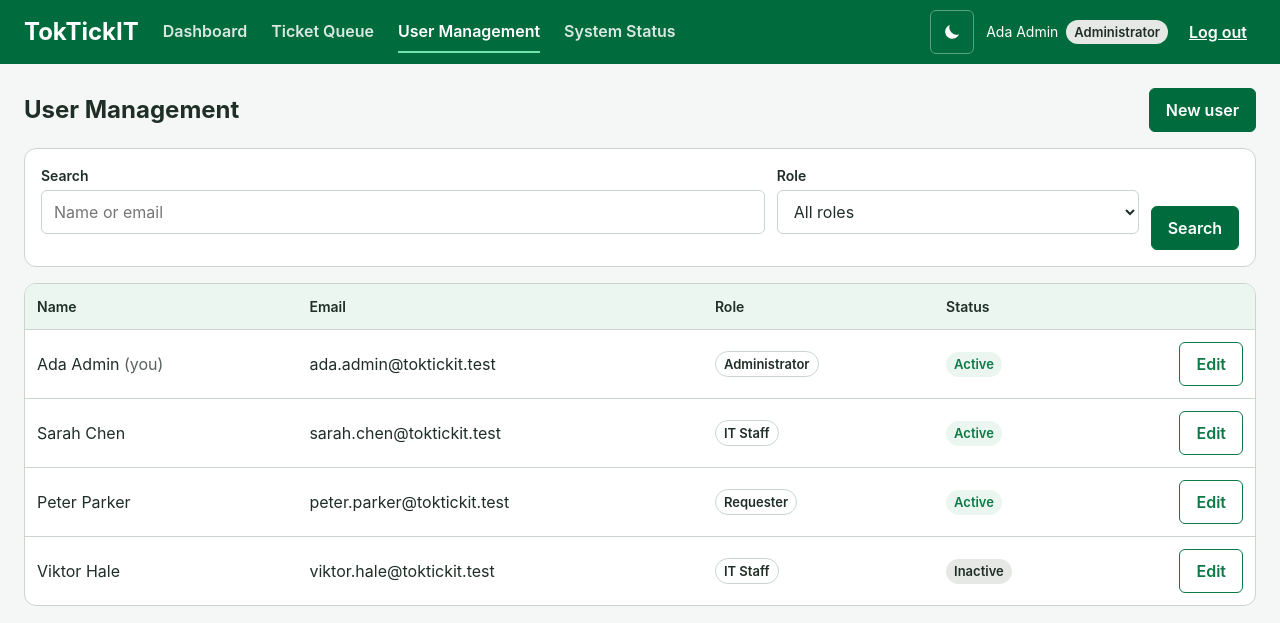
UI-18 the user list (AC-35, AC-36) › tells an empty system from a search that matched nobody
The width and height of the screenshot is (1280, 623).
Expected: the heading "User Management" is shown, [24,96,239,124]
Type "nobody" into the search field labelled "Search" at (403, 212), box [41,190,765,234]
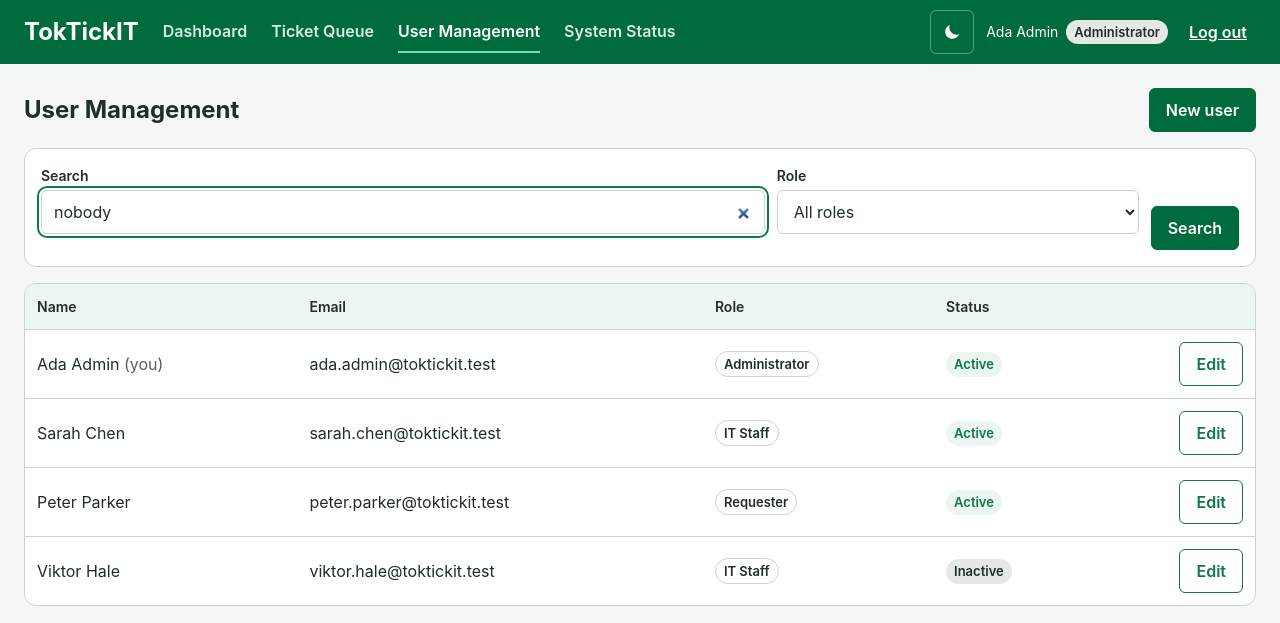
Click the button "Search" at (1195, 228), box [1151,206,1239,250]
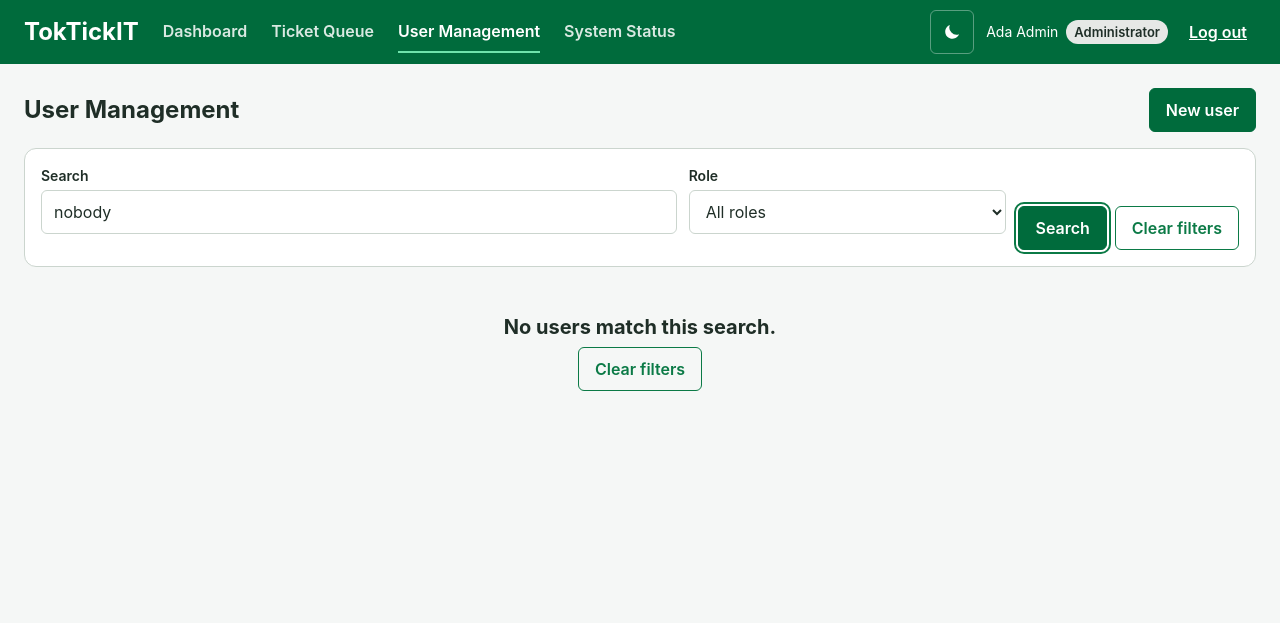
Expected: the heading "No users match this search." is shown, [504,315,776,339]
Click the 1st button "Clear filters" at (1177, 228), box [1115,206,1239,250]
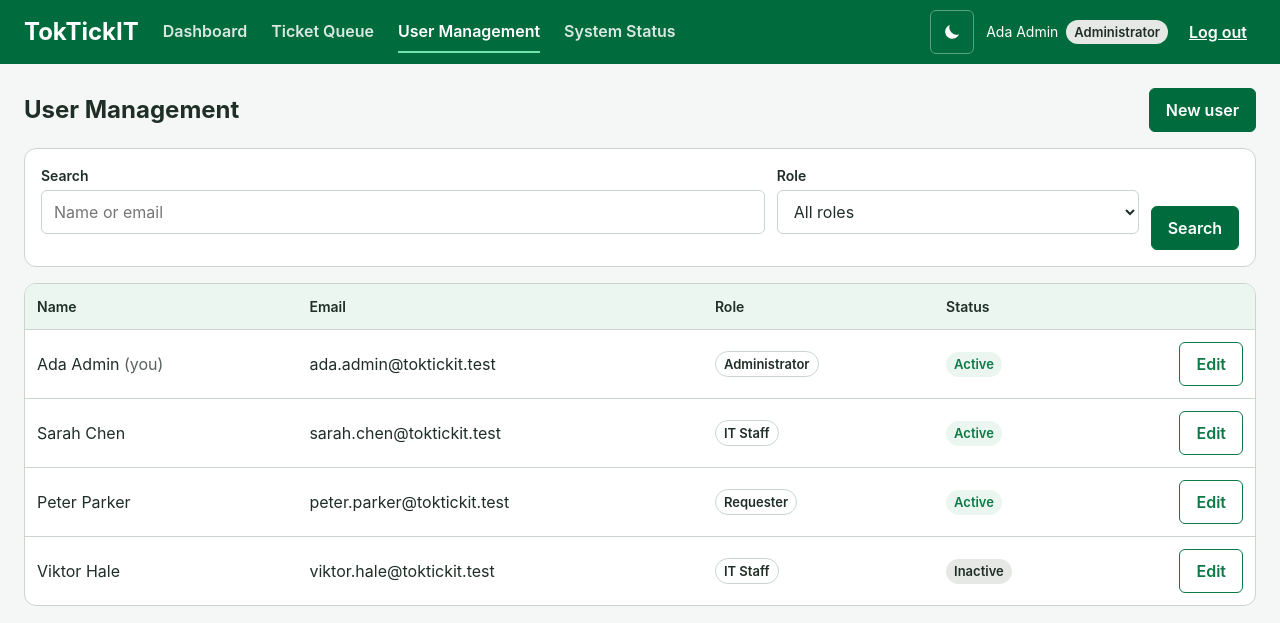
Expected: the search field labelled "Search" is empty, [41,190,765,234]
